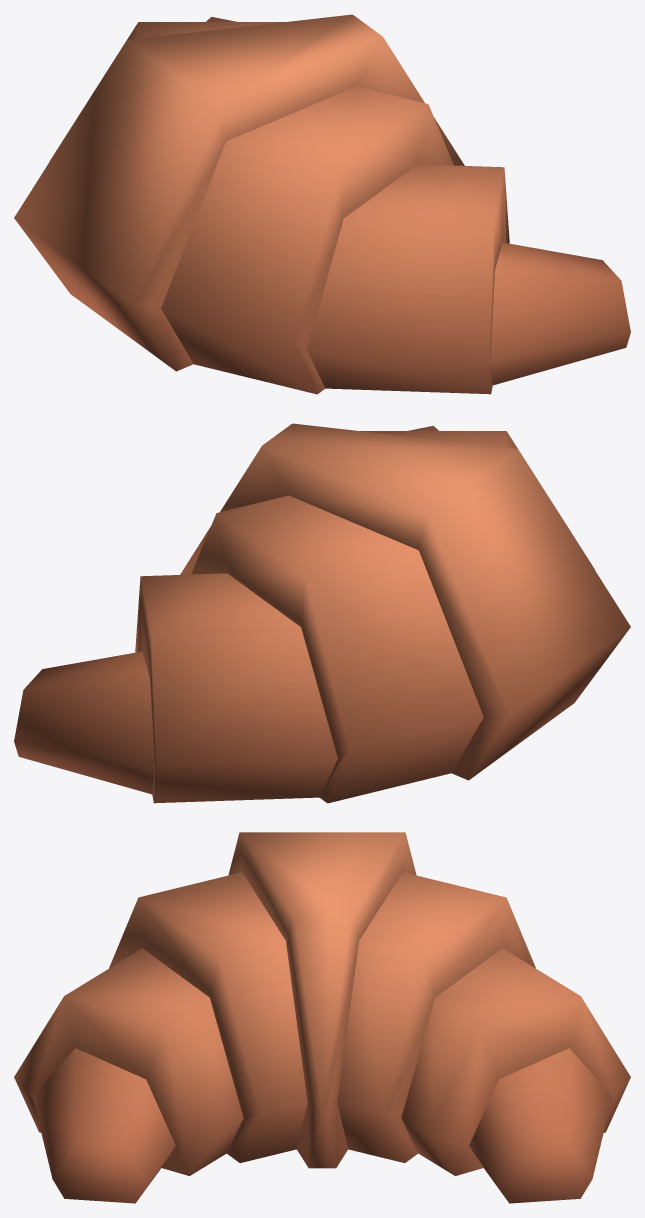
File: croissant.glb
The picture shows the model from 3 angles, top to bottom: view 1: azimuth 30°, elevation 25°; view 2: azimuth 150°, elevation 25°; view 3: azimuth 270°, elevation 25°; orthographic projection. The views are drawn at different scales.
Visible parts, largest first — view 1: croissant; view 2: croissant; view 3: croissant.
Part boxes in pixels (box(x1,y1,x2,y2)): croissant: box(14, 14, 630, 394); croissant: box(14, 423, 630, 803); croissant: box(14, 832, 630, 1203).
Size of the model in its own units: 0.3461 by 0.1936 by 0.4777.
1 material, 1 textured.
